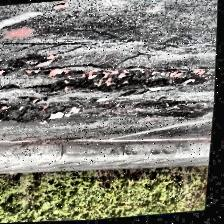pothole: (43, 62, 217, 98), (0, 100, 84, 126), (0, 54, 60, 78)
